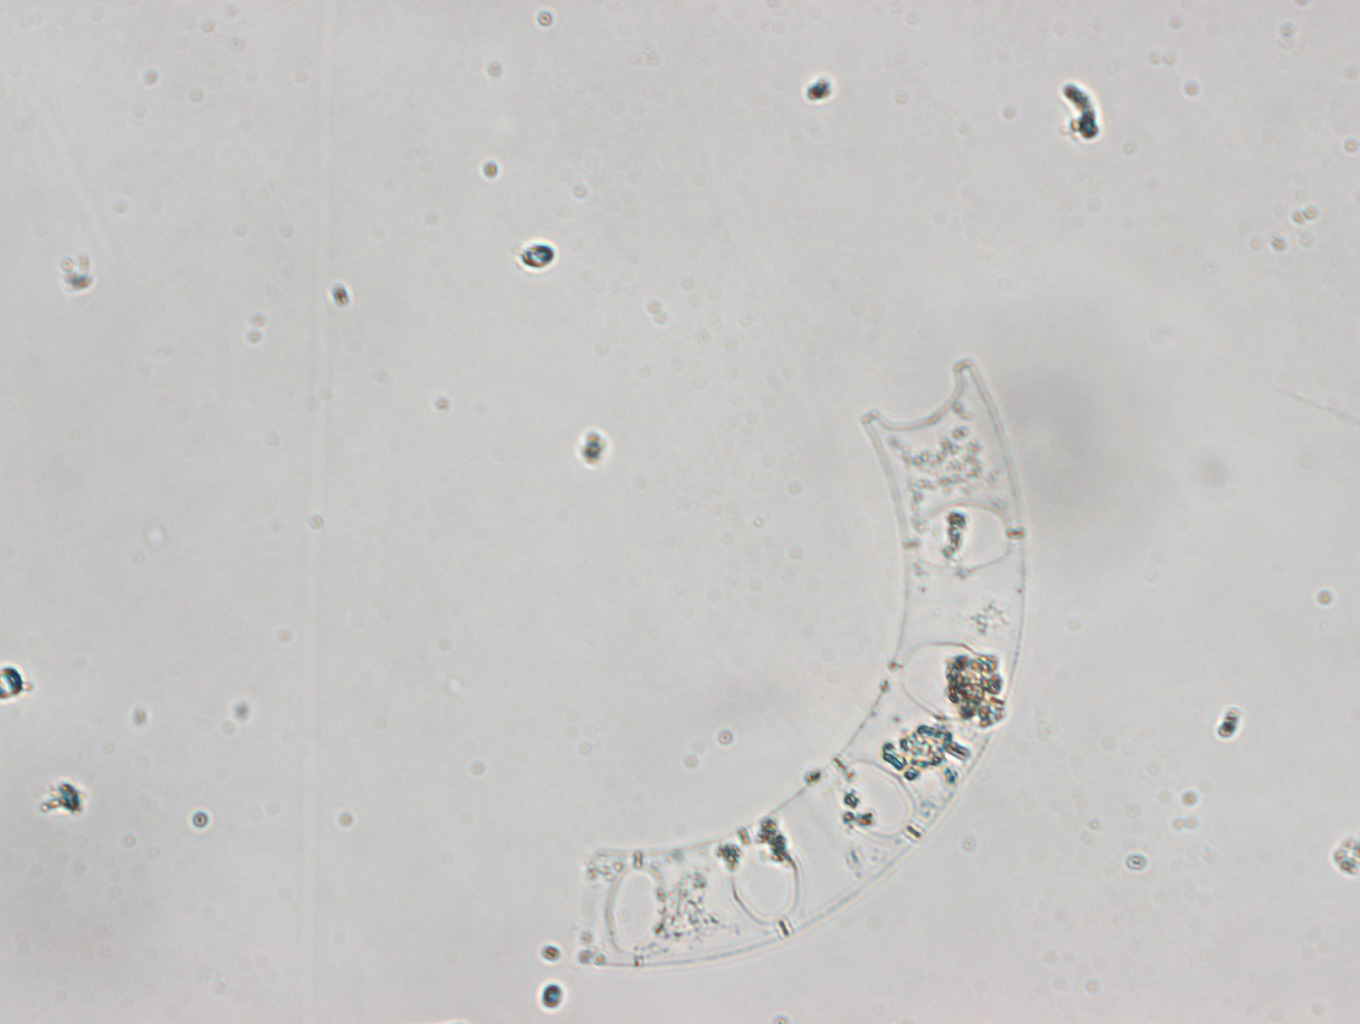eucampia: (579, 358, 1027, 965)
